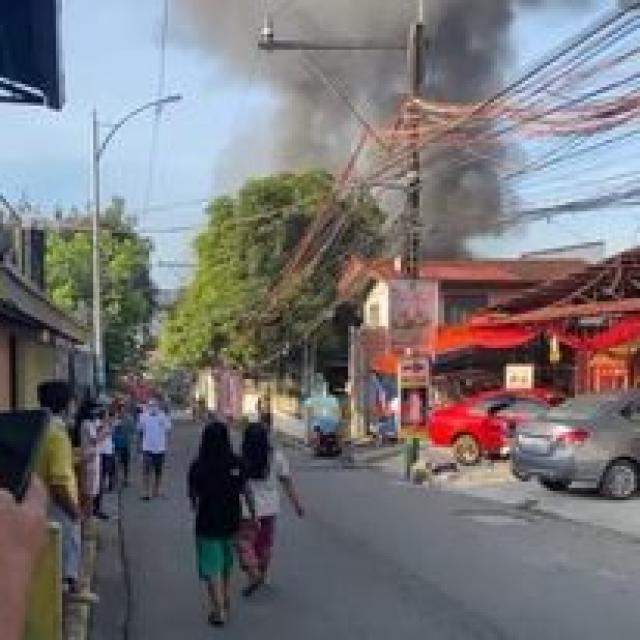Smoke: (172, 1, 400, 166), (419, 0, 506, 258)
